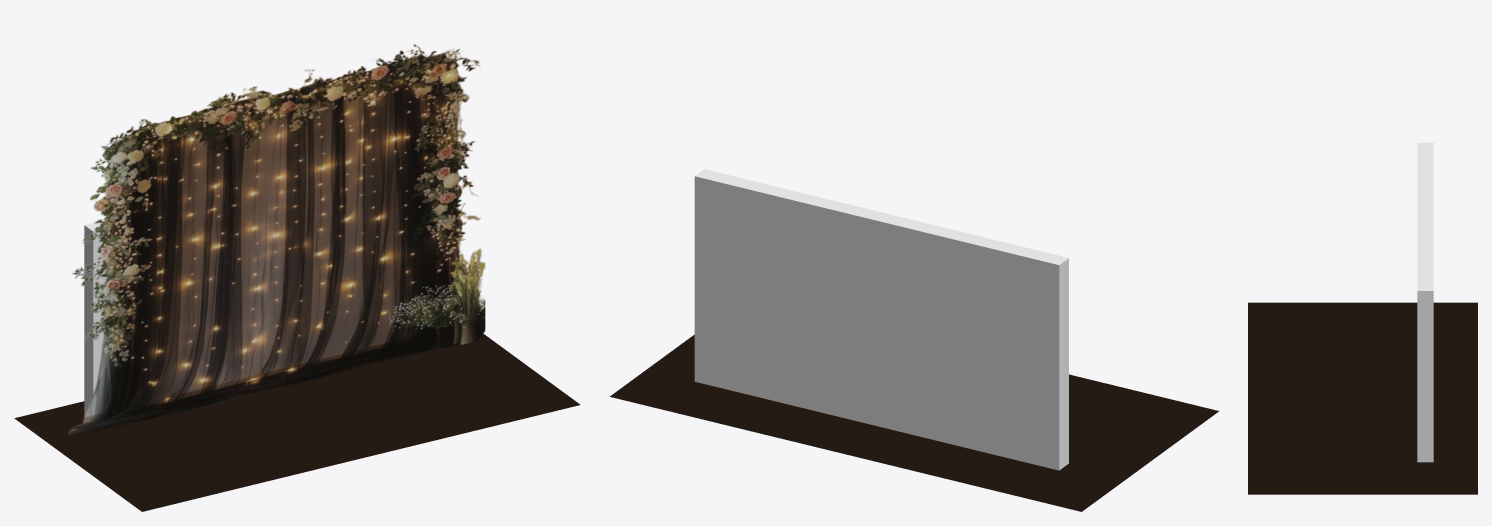
The model's file is qawwali-night-wedding-decoration.glb.
3 renders of one model, left to right at view 1: azimuth 30°, elevation 25°; view 2: azimuth 150°, elevation 25°; view 3: azimuth 270°, elevation 25°, orthographic. The views are drawn at different scales.
Visible parts, largest first — view 1: Plane (×2), Box; view 2: Box, Plane; view 3: Plane, Box.
Part boxes in pixels (x1,y1,x2,y2): Plane (×2): [14, 44, 580, 511]; Box: [84, 220, 106, 415]; Box: [694, 169, 1068, 470]; Plane: [610, 334, 1218, 511]; Plane: [1248, 302, 1477, 494]; Box: [1417, 142, 1433, 462].
Size of the model in its own units: 8.46 by 6.47 by 4.28.
Materials: 3 (1 with a texture image).
